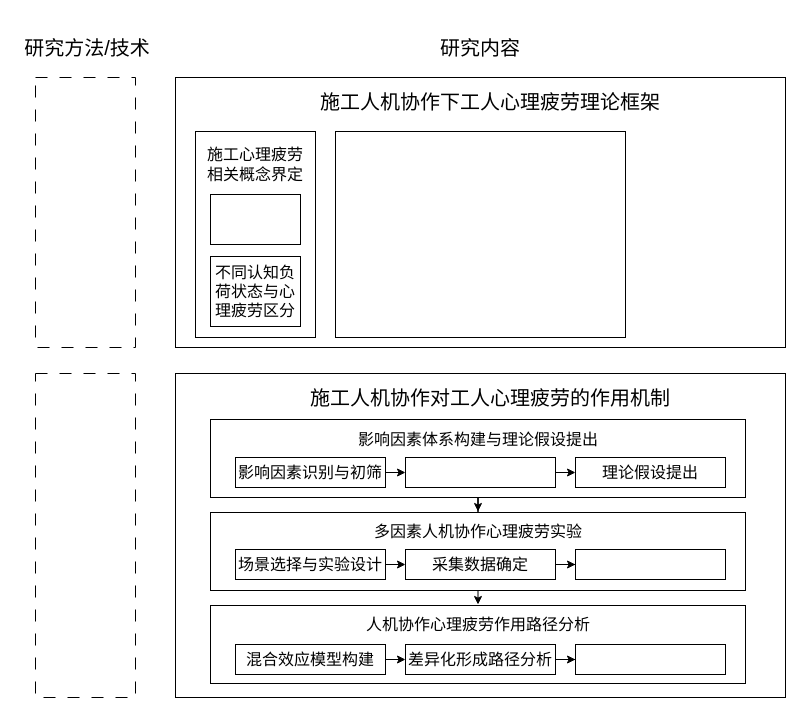
Some shapes in this 803 by 715 pixel diagram are drawn without their labels. The centre of each missing label's shape, as x and y in pixels:
"作用机制模型建立" belongs at point (650, 659).
"影响路径建模" belongs at point (480, 472).
"数据采集与分析" belongs at point (650, 564).
"施工场景人机协作特点" belongs at point (255, 219).
